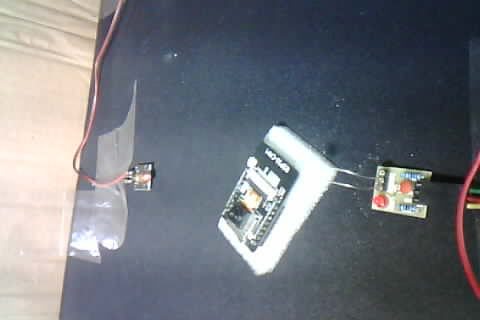esp32: (218, 125, 315, 274)
